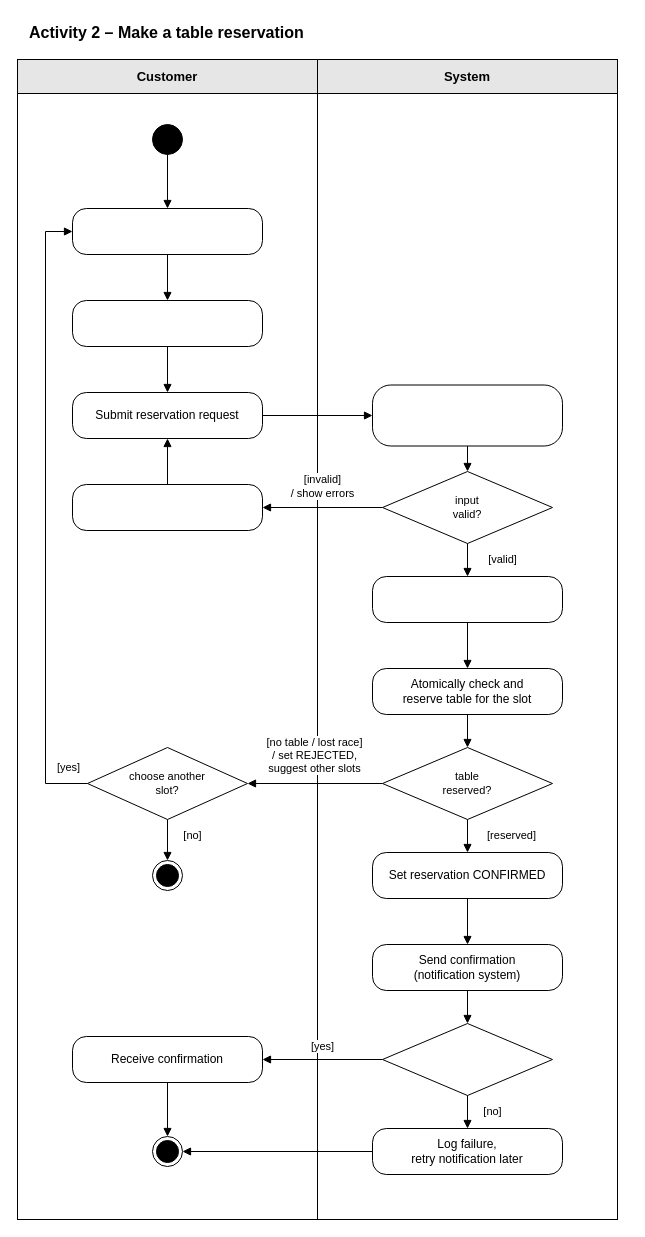
Image size: 645x1237. Some labels were removed from this diagram. Each missing label, with the centre of its shape:
Choose date, time and party size: [167,231]
confirmation sent?: [467,1059]
Correct request: [167,507]
Create reservation (PENDING): [467,599]
Enter contact information: [167,323]
Validate input: time in future, within opening hours, party size ≤ capacity: [467,415]
